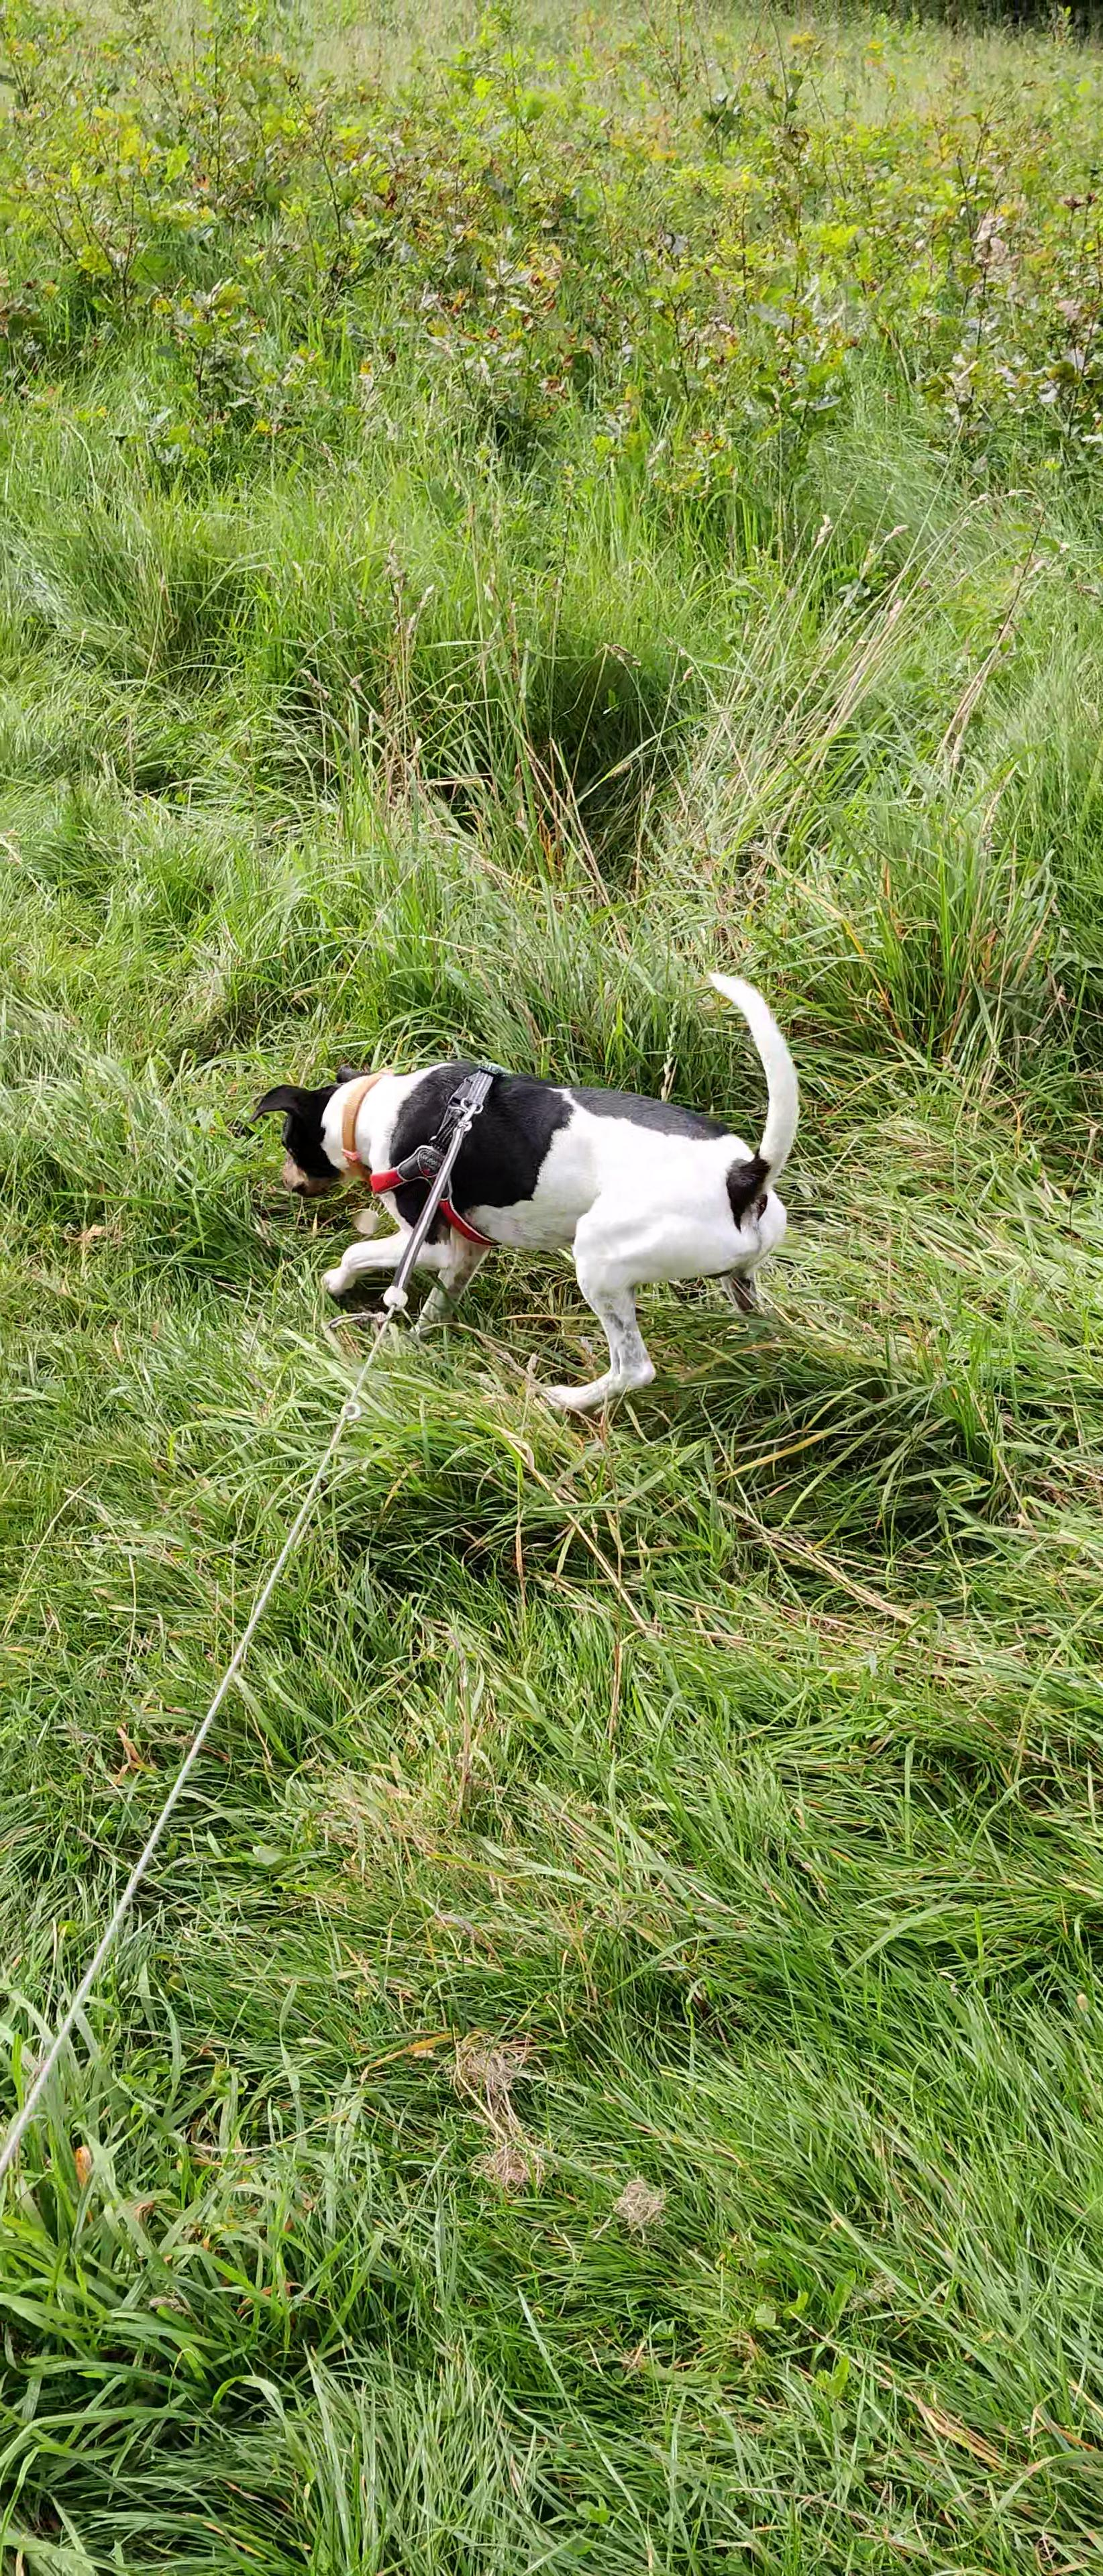Dog: (243, 956, 812, 1428)
